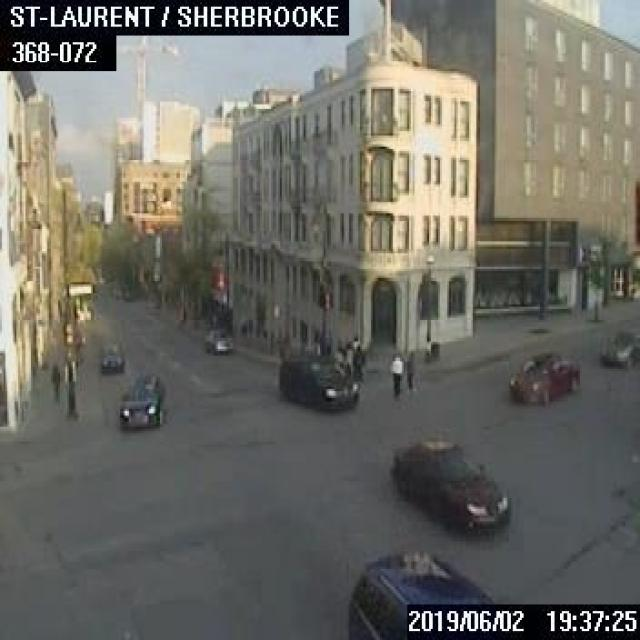pedestrian: (389, 349, 403, 394), (352, 334, 364, 380), (49, 362, 60, 401), (404, 350, 414, 390), (342, 340, 351, 362)
vehicle: (344, 546, 491, 638), (389, 436, 511, 534), (275, 351, 358, 409), (506, 349, 580, 402), (114, 371, 165, 429), (600, 329, 638, 367), (202, 328, 230, 353), (98, 352, 124, 372)
